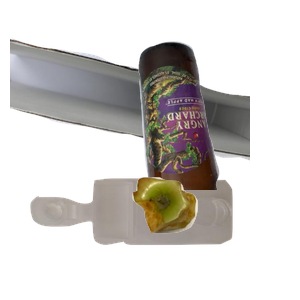cardboard: (10, 35, 250, 188)
glass: (136, 39, 300, 219)
plastic: (28, 176, 253, 300)
trash: (130, 175, 300, 300)
